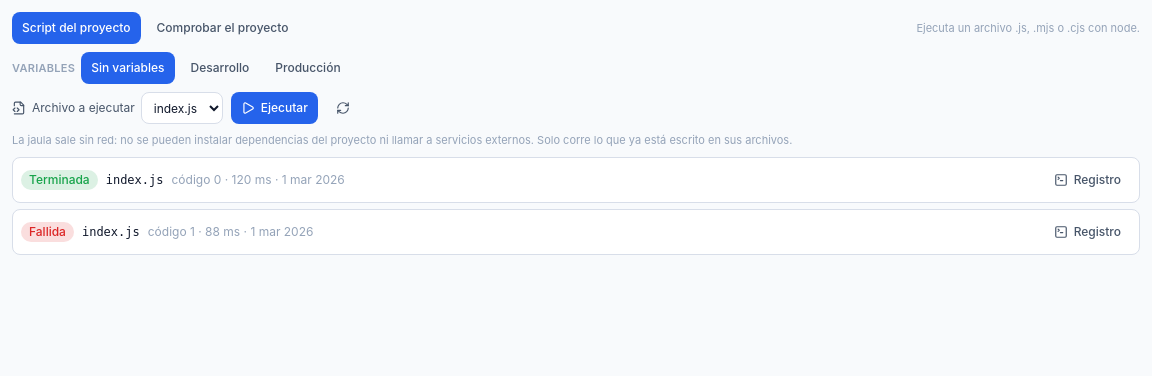
RunsPanel › pide el registro al servidor al abrir una ejecución
Click the button "Registro" in the row of "Fallida" at (1087, 232), box [1044,216,1131,248]
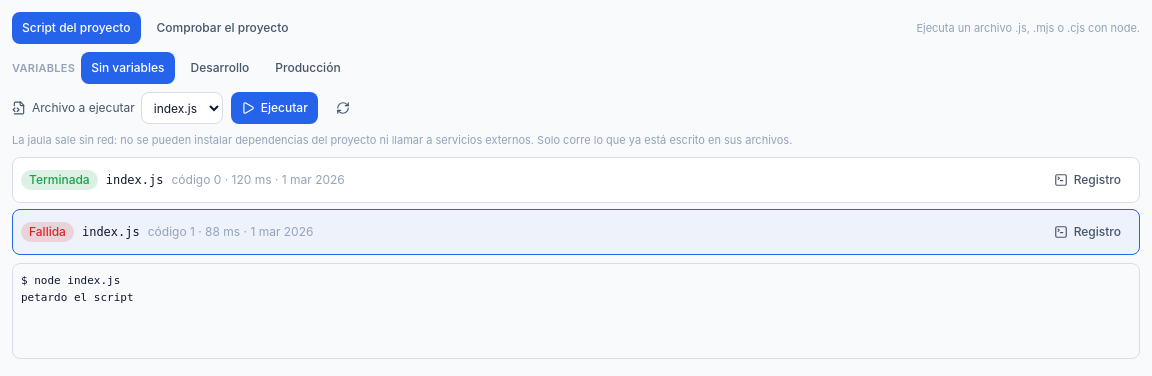
Now the text named "Registro de la ejecución" shows "petardo el script", box [21,274,134,304]
